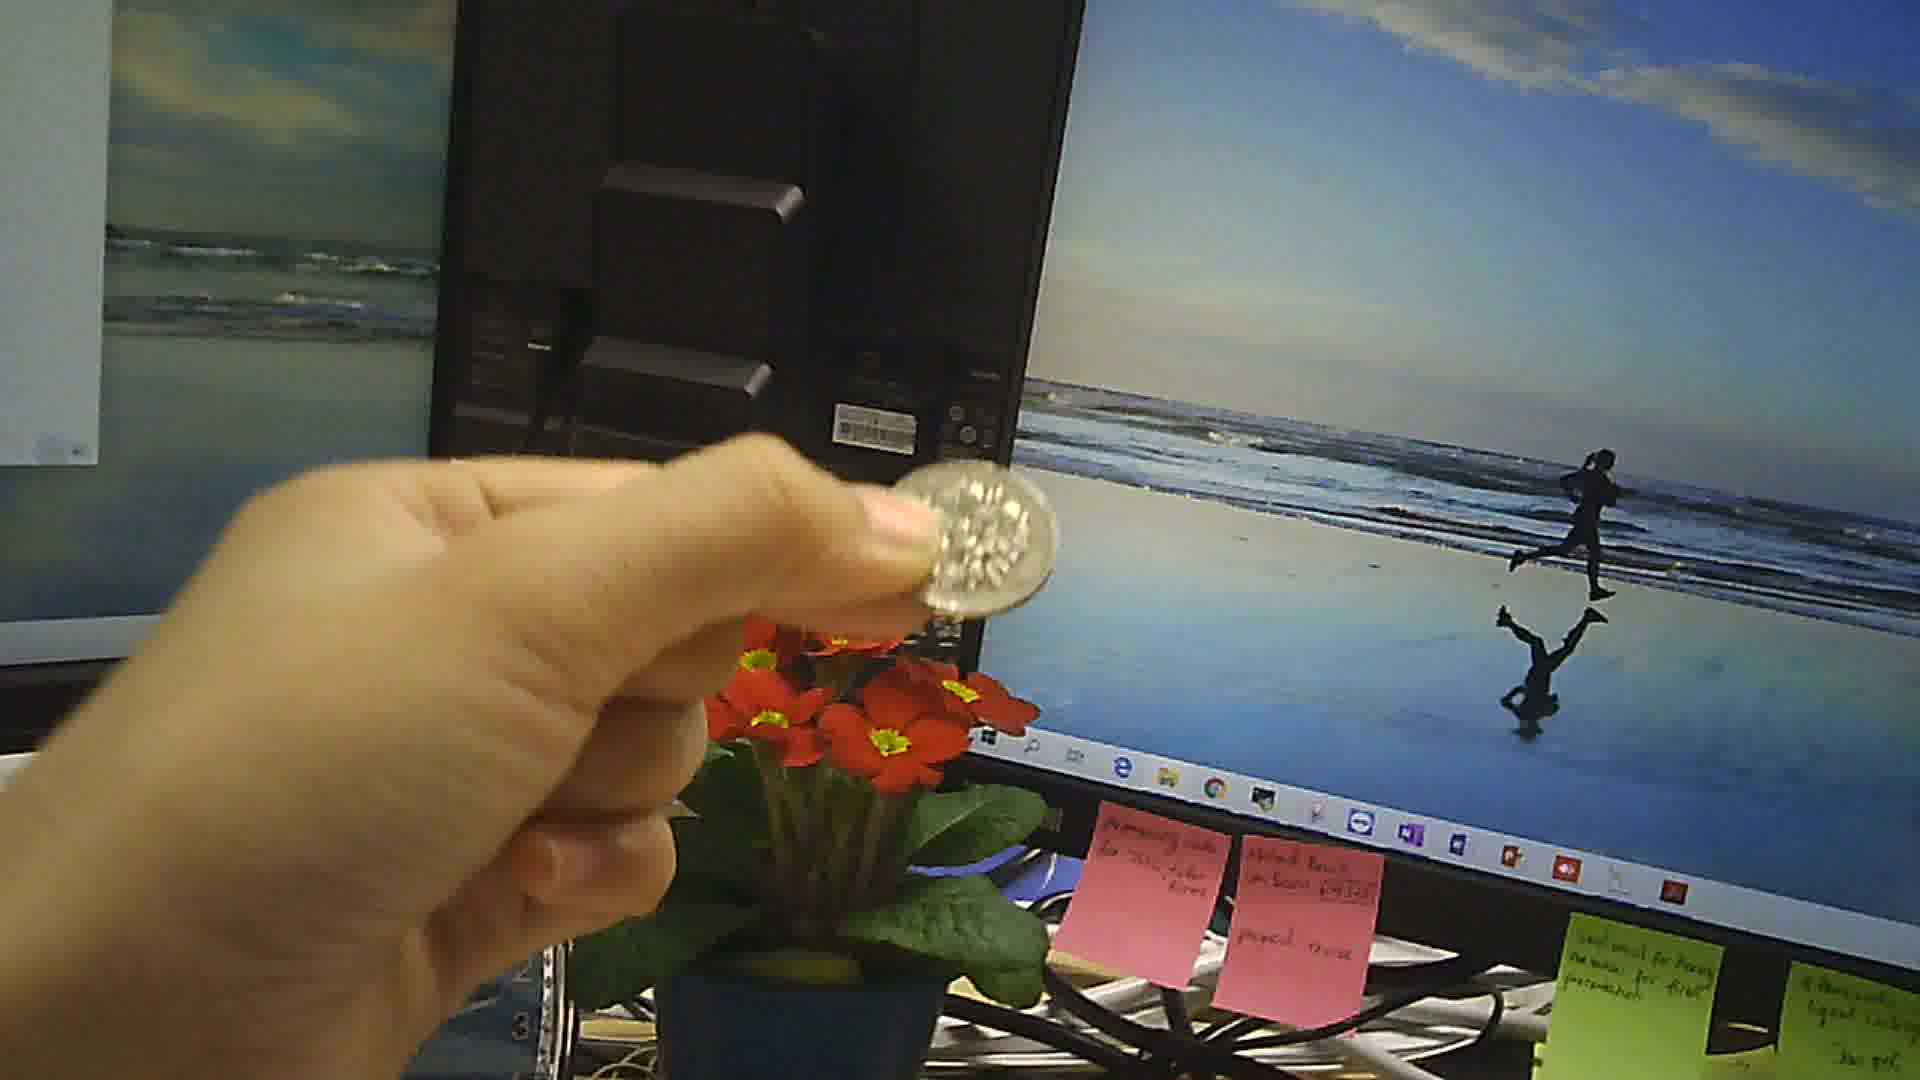100 Yen: (891, 456, 1058, 629)
